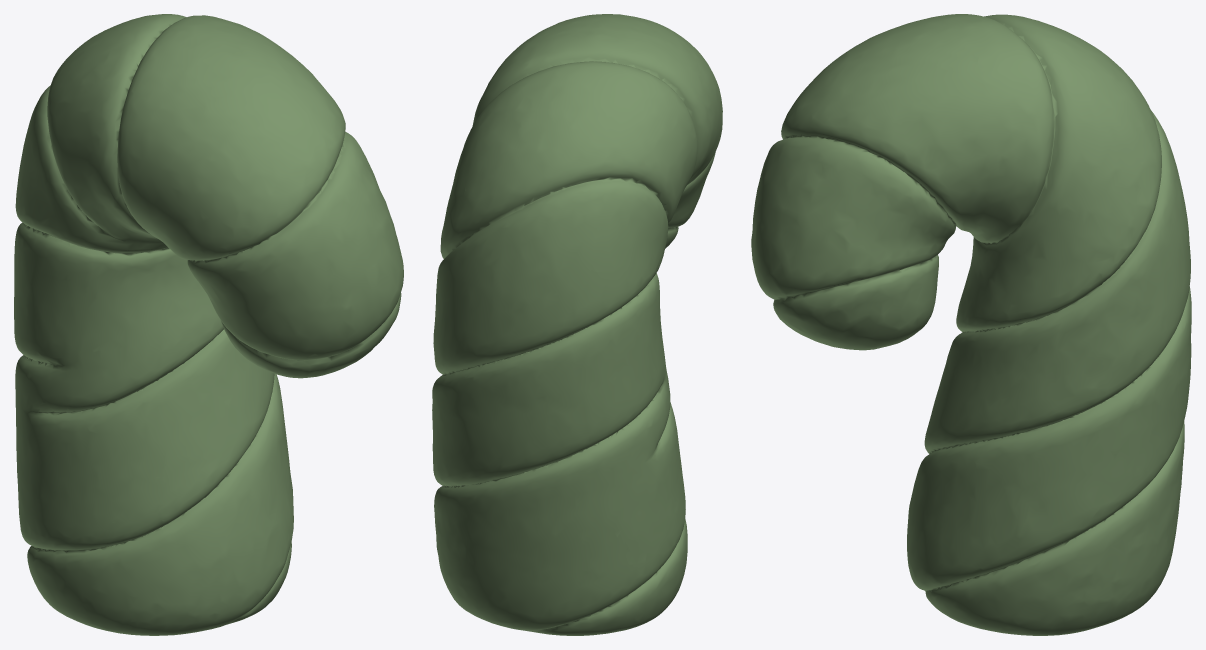
Rendered from candy-cane.glb.
3 views of the same model, side by side, from view 1: azimuth 30°, elevation 25°; view 2: azimuth 150°, elevation 25°; view 3: azimuth 270°, elevation 25° (orthographic). The views are drawn at different scales.
Visible parts, largest first — view 1: tripo_printable_source; view 2: tripo_printable_source; view 3: tripo_printable_source.
Boxes of the visible parts, x1=… form: tripo_printable_source: x1=14, y1=14, x2=403, y2=635; tripo_printable_source: x1=432, y1=14, x2=722, y2=635; tripo_printable_source: x1=751, y1=14, x2=1191, y2=635.
Bounding box in the file's own units: 44.97 × 100 × 70.
